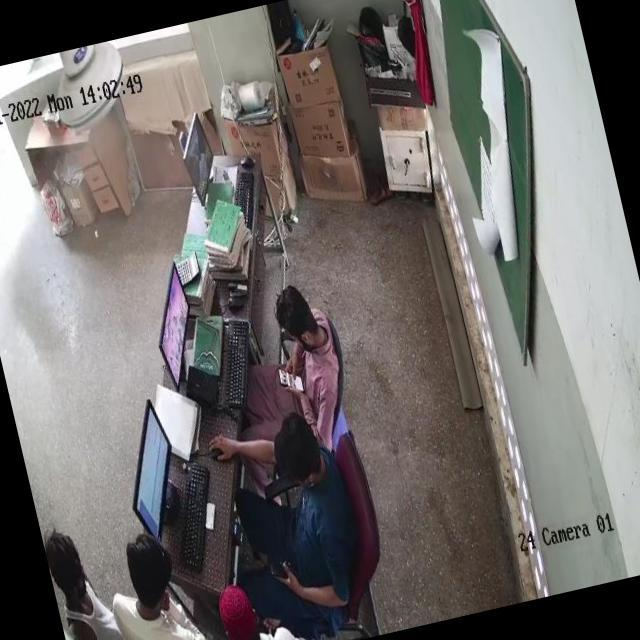person: (230, 408, 368, 612), (228, 290, 359, 457), (40, 516, 145, 640), (105, 538, 214, 640), (212, 574, 306, 640)
